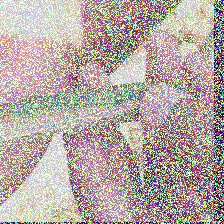Leaf_Blast: (0, 109, 173, 138)
